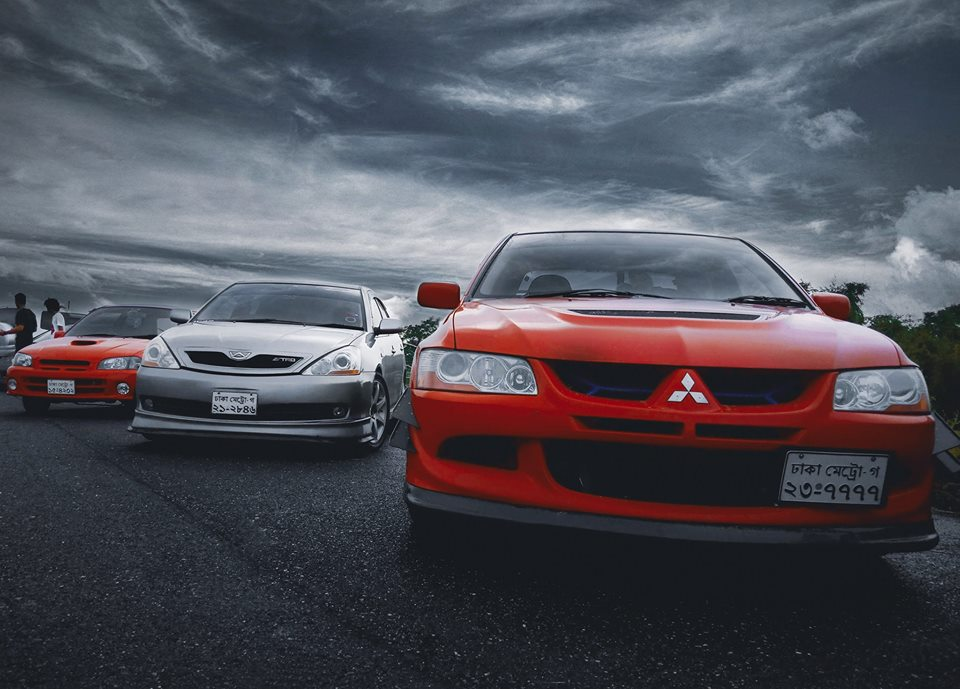registration_plate: (778, 448, 891, 506), (211, 390, 258, 415), (46, 378, 76, 395)
